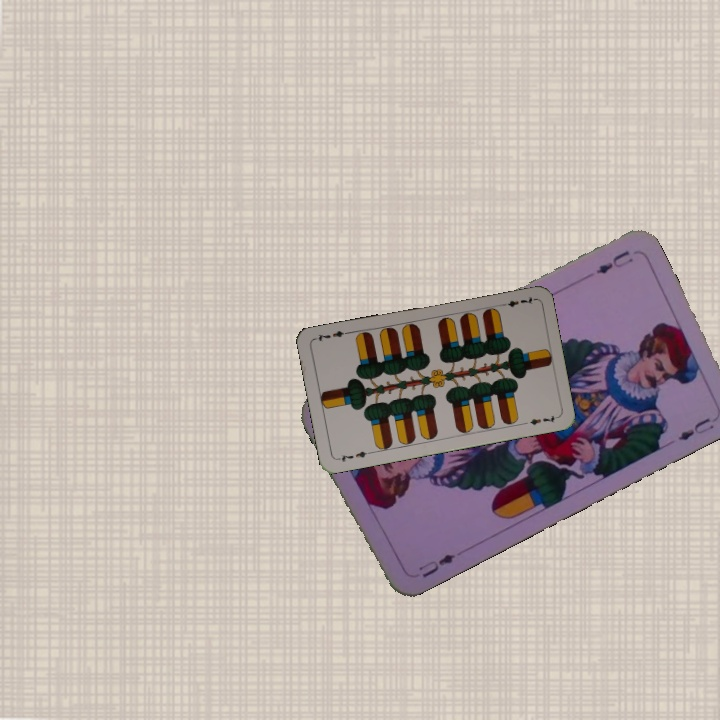E7: (496, 292, 537, 310), (334, 447, 374, 464)
EU: (592, 246, 636, 277), (414, 549, 457, 580)
